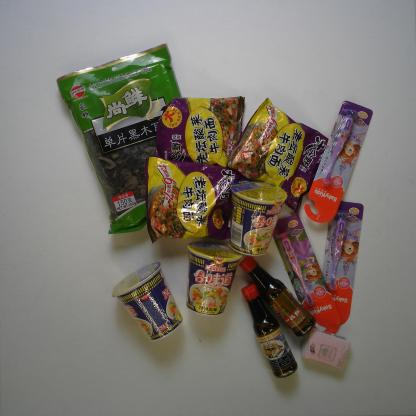Dried Food: (54, 42, 185, 236)
Instant Noodles: (224, 98, 324, 216), (144, 156, 240, 248), (156, 95, 246, 164), (110, 265, 184, 341), (229, 178, 288, 257), (186, 241, 247, 316)
Personal Hygiene: (304, 99, 373, 224), (271, 213, 341, 335), (320, 199, 365, 325)
Seasoner: (240, 255, 314, 335), (240, 284, 298, 379)
Tissue: (300, 328, 350, 370)
